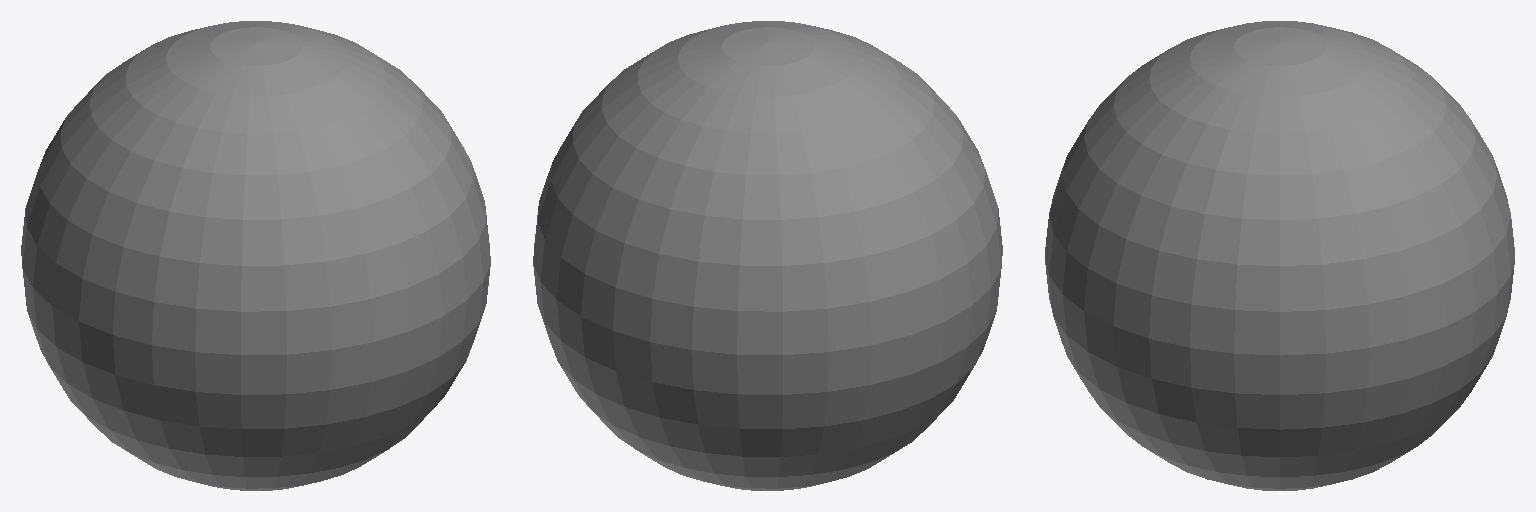
Rendered from earth.obj.
3 views of the same model, side by side, from view 1: azimuth 30°, elevation 25°; view 2: azimuth 150°, elevation 25°; view 3: azimuth 270°, elevation 25° (orthographic).
Visible parts, largest first — view 1: Sphere001; view 2: Sphere001; view 3: Sphere001.
Part boxes in pixels (bbox=[...]): Sphere001: bbox=[21, 21, 490, 490]; Sphere001: bbox=[533, 21, 1002, 490]; Sphere001: bbox=[1045, 21, 1514, 490].
Bounding box in the file's own units: 70.05 × 70.05 × 70.05.